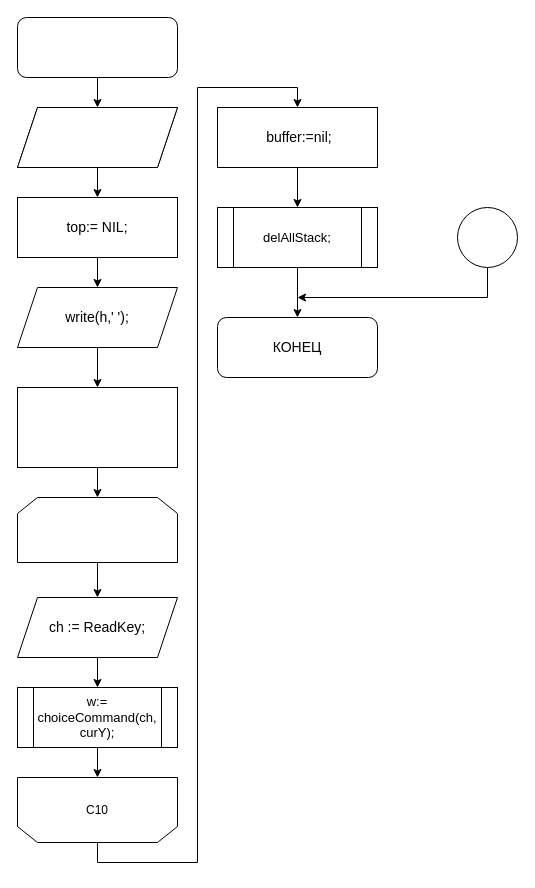
Some shapes in this 535 by 888 pixel diagram are drawn without their labels. Here are the shapes that lost their labels. From the top down, the centre of each, then its label:
At point 97,47: "НАЧАЛО".
At point 97,137: "ch, y".
At point 487,237: "P1".
At point 97,427: "s := ''; x := 0; setlength(buffer,1); curY := WhereY();".
At point 97,529: "C10 w = false".
